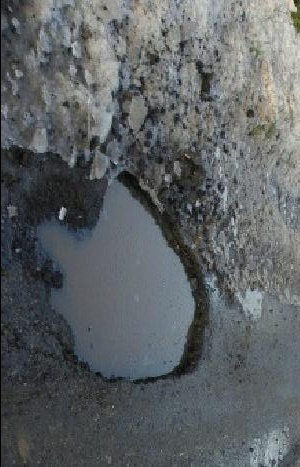pothole: (34, 163, 211, 388), (183, 55, 213, 102), (126, 88, 151, 135)
